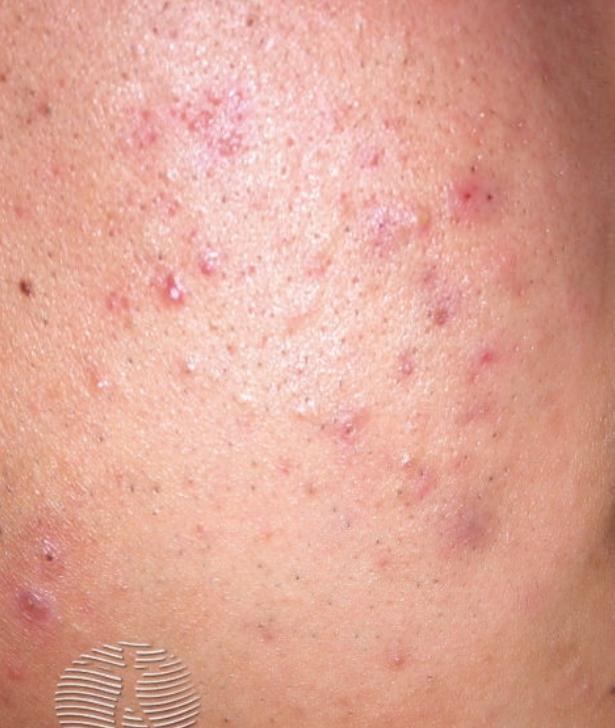blackhead: (153, 354, 215, 398), (24, 538, 81, 578), (378, 480, 425, 520)
papular: (396, 193, 443, 241), (147, 271, 188, 326), (19, 586, 62, 629)
whitehead: (150, 153, 201, 195), (230, 374, 271, 425), (91, 352, 130, 398)
